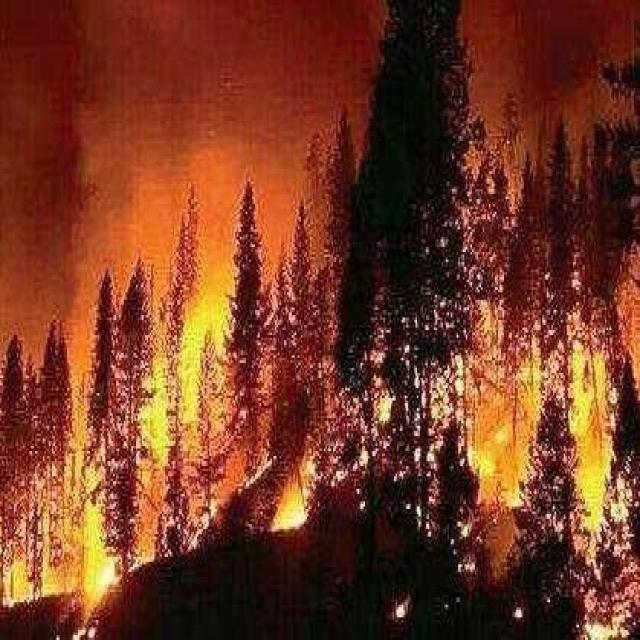fire: (454, 261, 622, 558), (143, 219, 254, 463), (0, 440, 162, 596), (259, 445, 323, 529)
smoke: (27, 18, 347, 242), (486, 11, 624, 144)
